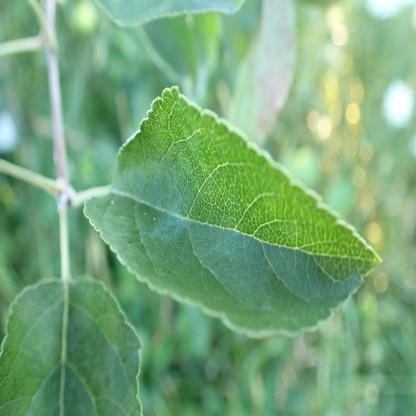powdery_mildew: (116, 160, 157, 194), (152, 213, 191, 240)
